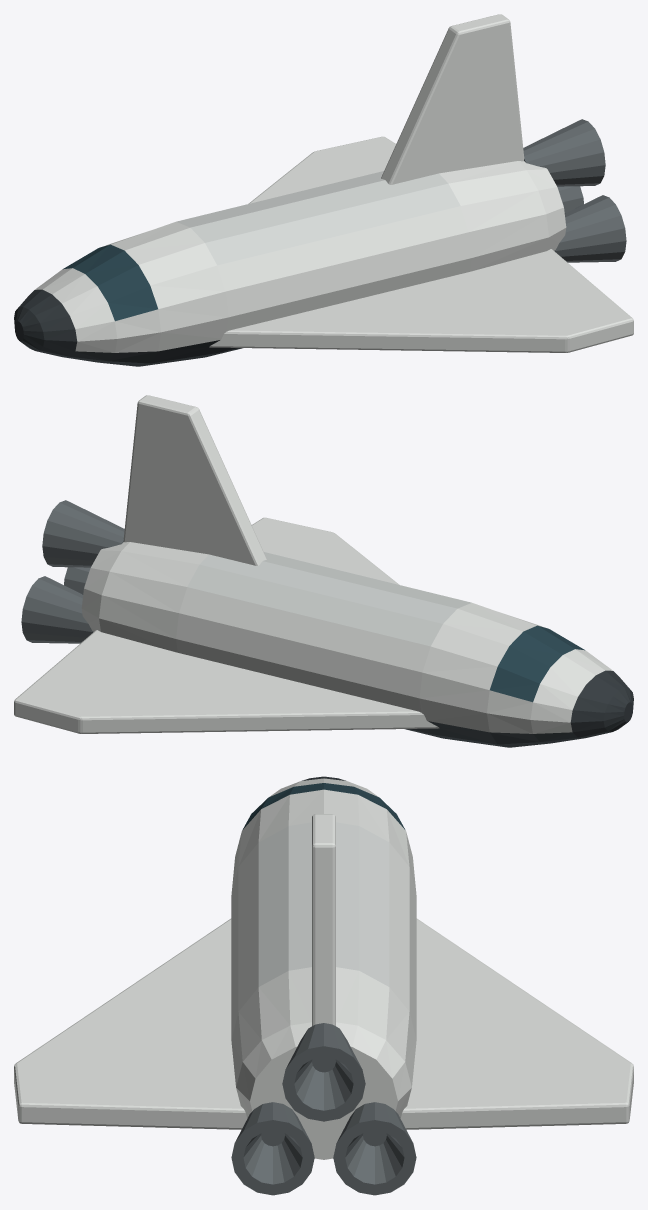
The model's file is NEW_RECOVERY_121_LOD2.glb.
3 views of the same model, one above another, from view 1: azimuth 30°, elevation 25°; view 2: azimuth 150°, elevation 25°; view 3: azimuth 270°, elevation 25° (orthographic). The views are drawn at different scales.
Visible parts, largest first — view 1: Orbiter solid; view 2: Orbiter solid; view 3: Orbiter solid.
Part boxes in pixels (x1,y1,x2,y2): Orbiter solid: (14,14,633,366); Orbiter solid: (14,395,633,747); Orbiter solid: (14,776,633,1195).
Bounding box in the file's own units: 8.65 × 3.75 × 6.7.
